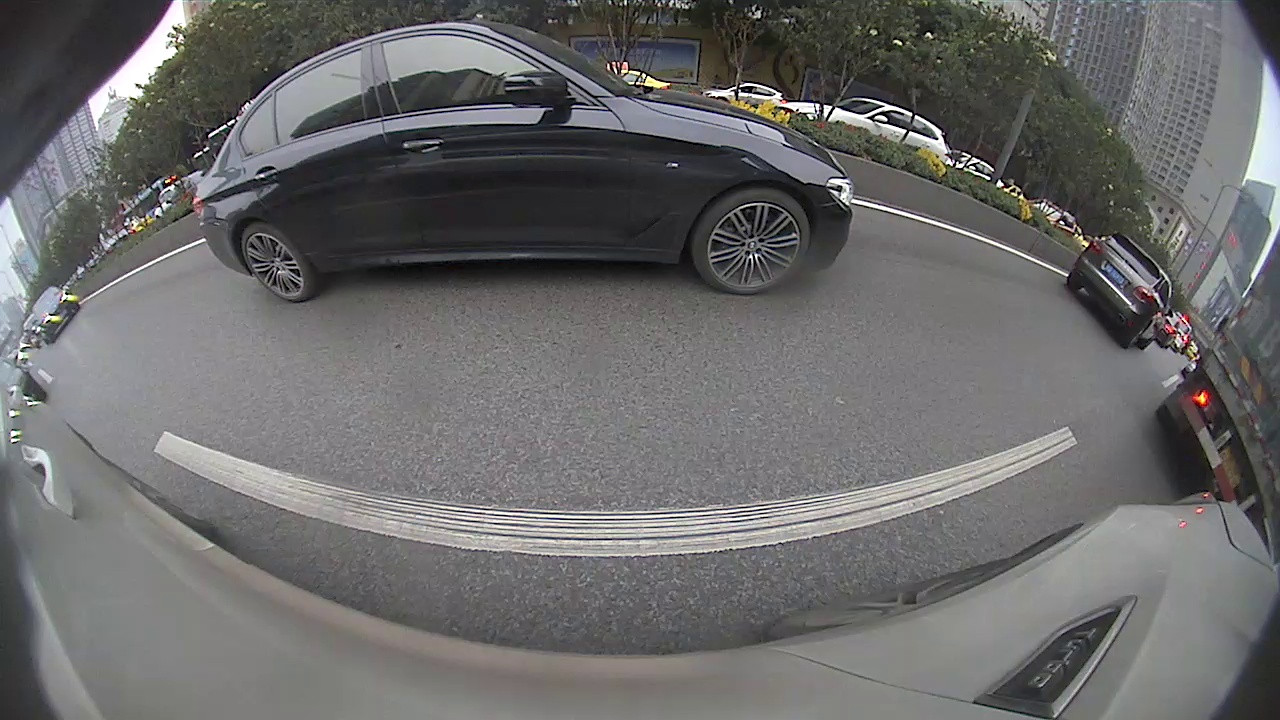car: (1, 301, 185, 497), (298, 174, 428, 255), (657, 146, 743, 207), (466, 159, 553, 216)
front: (52, 358, 161, 491), (409, 200, 423, 223)
rear: (352, 217, 372, 243), (525, 185, 535, 206)
rider: (1099, 206, 1279, 446)
